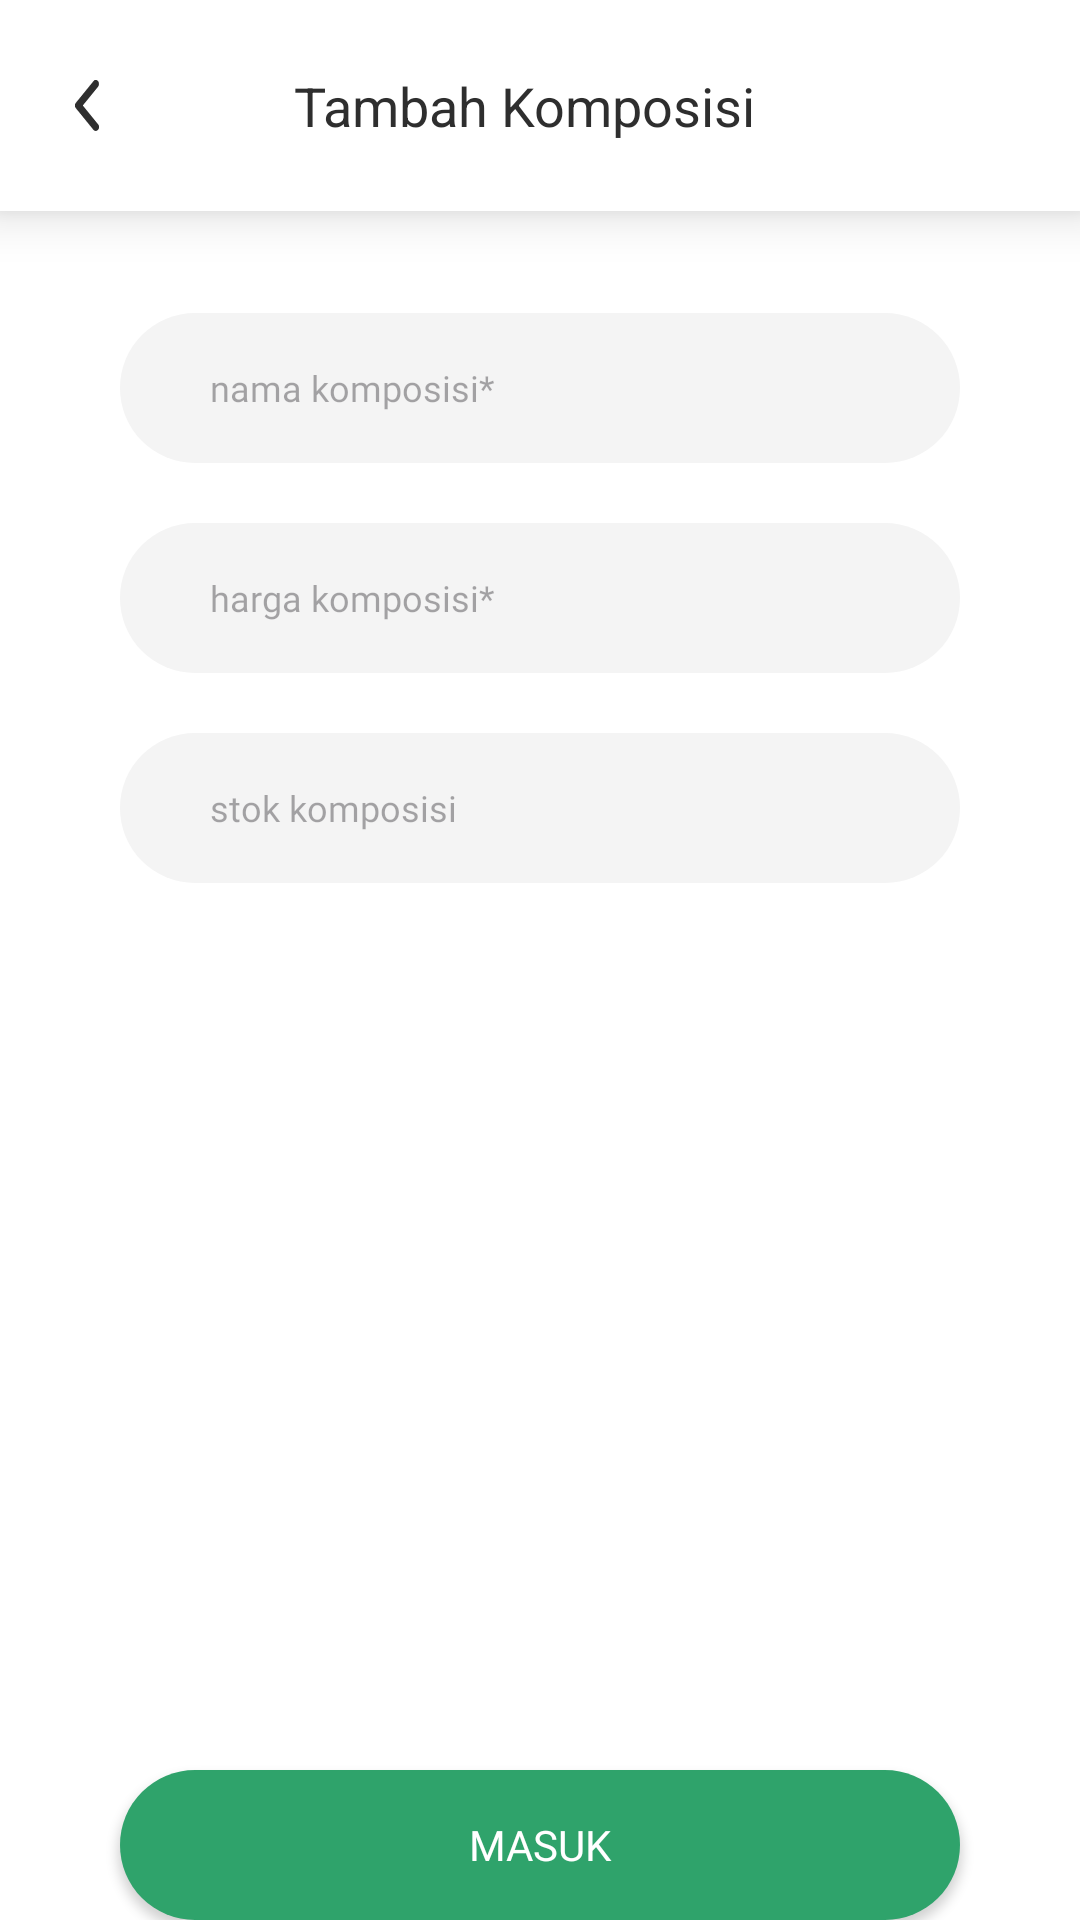

Screen size 1080 × 1920. Icon name, then its box in pixels as [x1,y1,x2,y2]:
back: [75,80,99,131]
